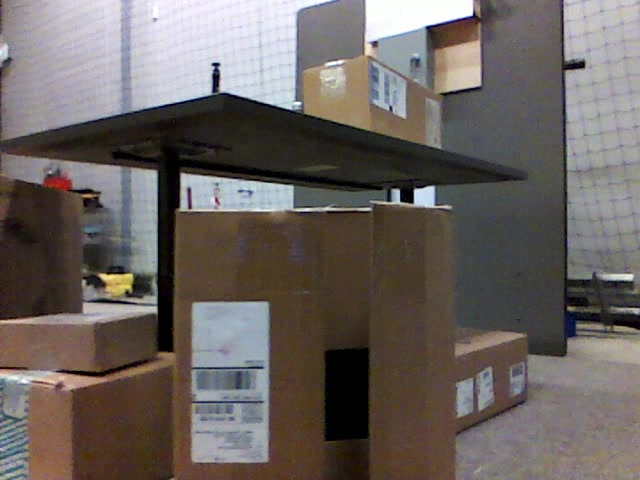box: (176, 206, 456, 480), (2, 354, 172, 480), (303, 57, 442, 143), (1, 177, 86, 312), (2, 312, 156, 372), (454, 326, 527, 436)
